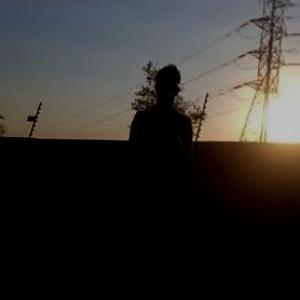follow: (118, 63, 194, 299)
